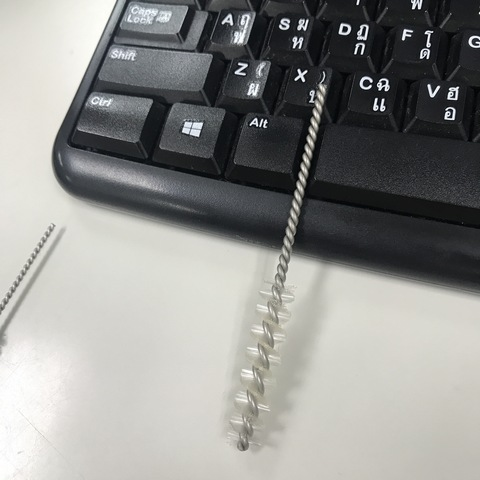Twist Brush-A: (1, 220, 66, 326)
Twist Brush-B: (219, 82, 333, 454)
